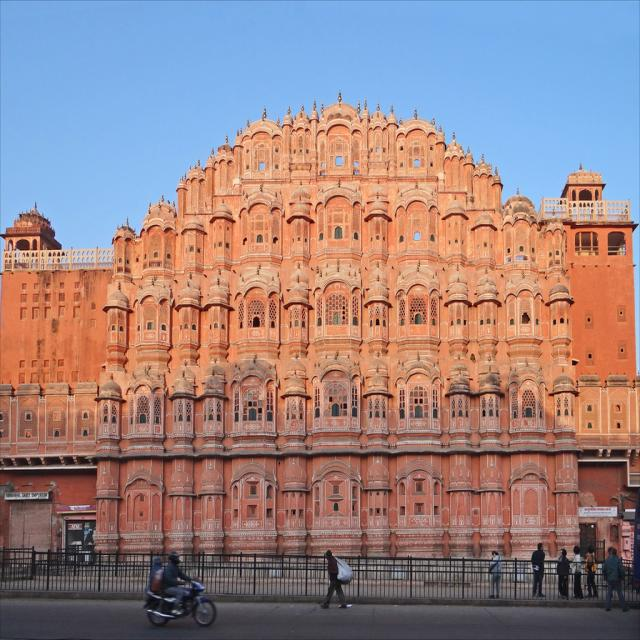Motorbikes: (138, 578, 223, 634)
Pedestrians: (322, 544, 353, 614), (602, 546, 629, 614)
